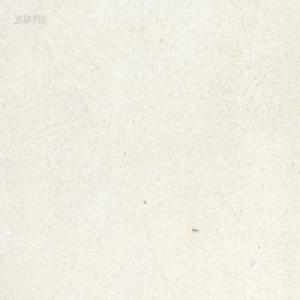Nail: (192, 226, 199, 232)
